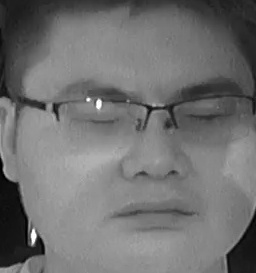blink: (85, 113, 120, 129), (182, 111, 222, 125)
glass: (52, 95, 149, 148), (164, 92, 253, 145)
mouth: (107, 198, 190, 230)
